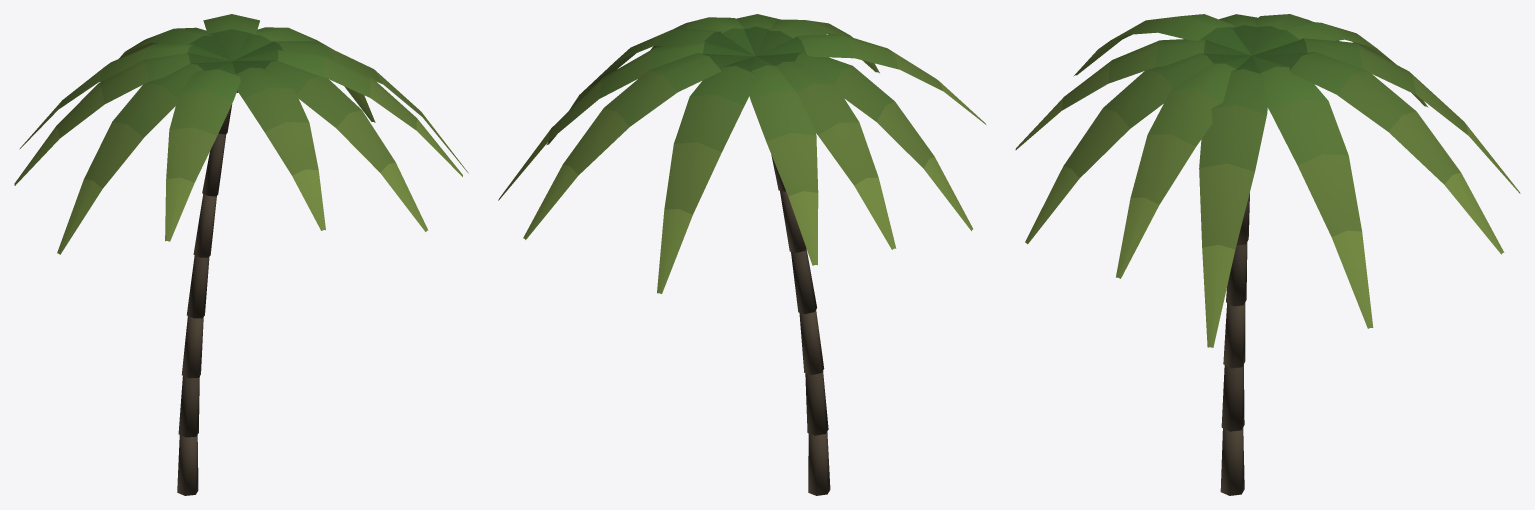
Rendered from env_palm_b.glb.
3 views of the same model, side by side, from view 1: azimuth 30°, elevation 25°; view 2: azimuth 150°, elevation 25°; view 3: azimuth 270°, elevation 25° (orthographic). The views are drawn at different scales.
Visible parts, largest first — view 1: env_palm_b; view 2: env_palm_b; view 3: env_palm_b.
Part boxes in pixels (x1,y1,x2,y2): env_palm_b: [14, 14, 468, 495]; env_palm_b: [498, 14, 986, 495]; env_palm_b: [1015, 14, 1520, 495].
Bounding box in the file's own units: 10.64 × 10.47 × 10.06.
